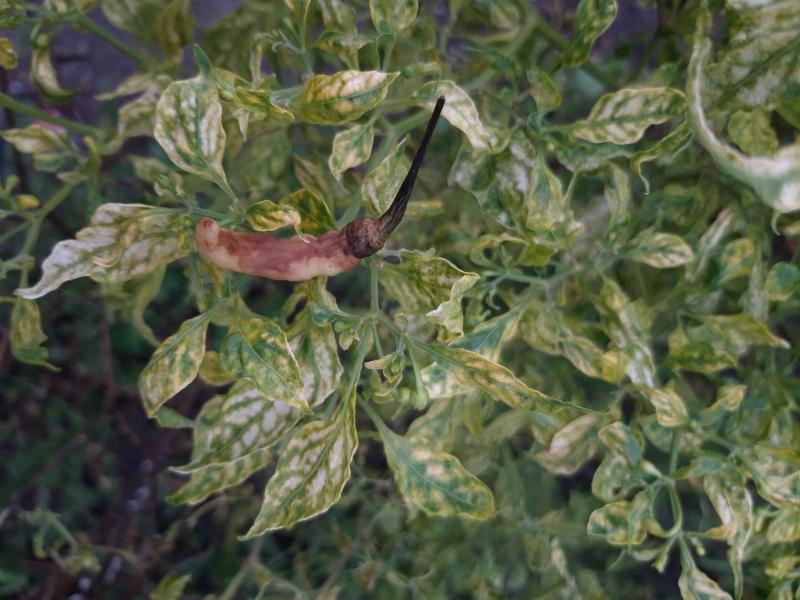antraknosa: (191, 214, 370, 280)
